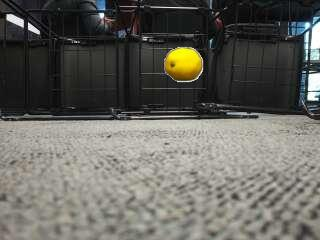lemon: (165, 48, 201, 80)
